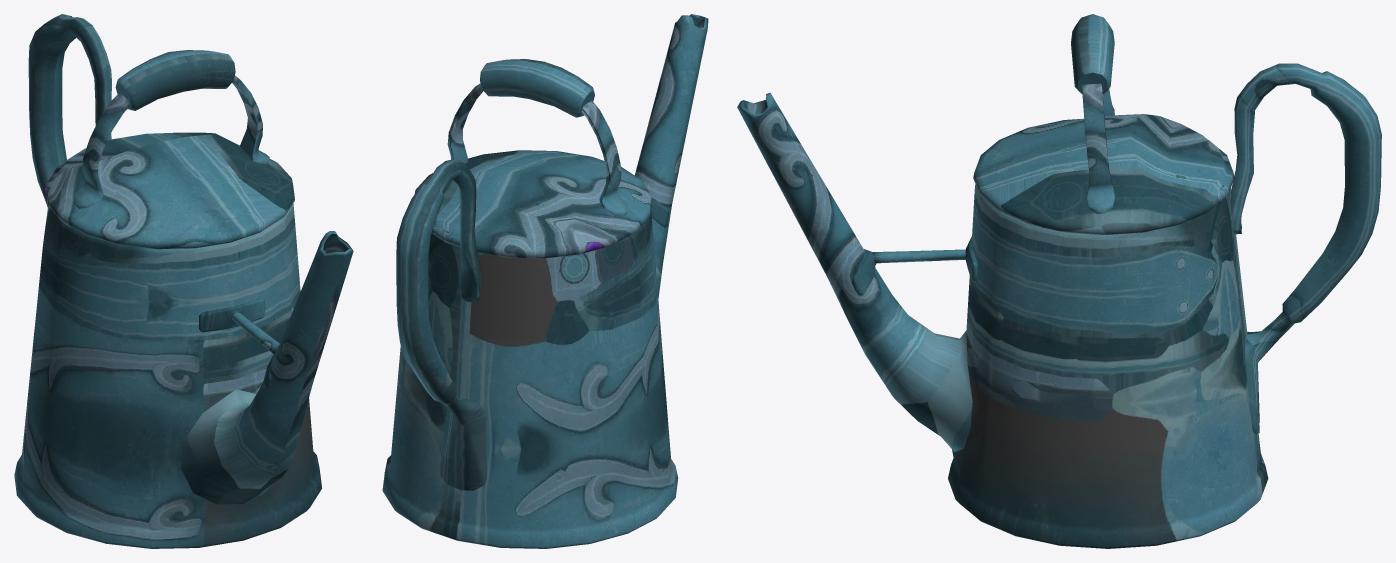
The picture shows the model from 3 angles, left to right: view 1: azimuth 30°, elevation 25°; view 2: azimuth 150°, elevation 25°; view 3: azimuth 270°, elevation 25°; orthographic projection. The views are drawn at different scales.
Visible parts, largest first — view 1: SM_WateringCan_Rune_2H_01_LOD0; view 2: SM_WateringCan_Rune_2H_01_LOD0; view 3: SM_WateringCan_Rune_2H_01_LOD0.
Boxes of the visible parts, bbox=[...] form: SM_WateringCan_Rune_2H_01_LOD0: bbox=[14, 14, 353, 548]; SM_WateringCan_Rune_2H_01_LOD0: bbox=[382, 14, 708, 548]; SM_WateringCan_Rune_2H_01_LOD0: bbox=[737, 14, 1381, 548].
Bounding box in the file's own units: 0.3196 × 0.4959 × 0.6386.
